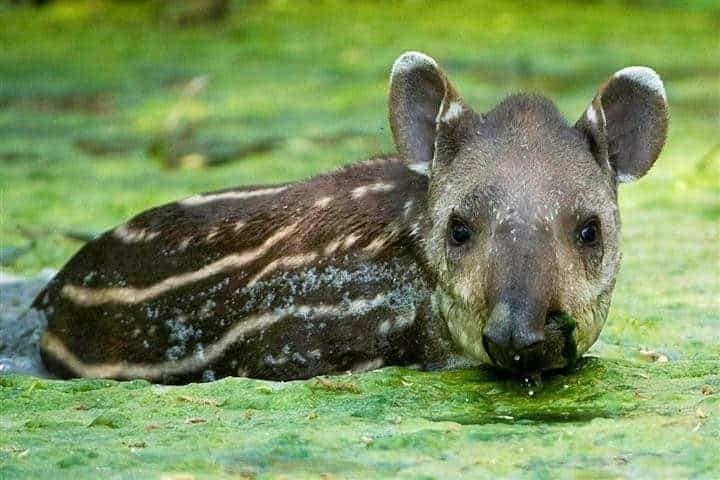Anta: (25, 45, 678, 392)
